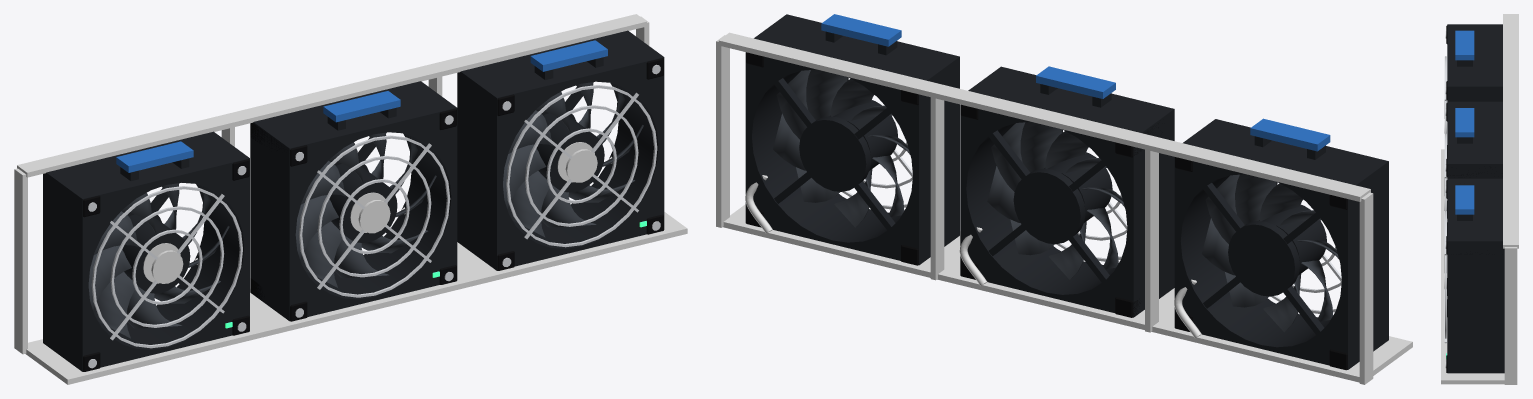
File: hwm_cool_dual_80mm.glb
3 views of the same model, side by side, from view 1: azimuth 30°, elevation 25°; view 2: azimuth 150°, elevation 25°; view 3: azimuth 270°, elevation 25° (orthographic). The views are drawn at different scales.
Visible parts, largest first — view 1: Body, Rotor_Z_2, Rotor_Z_0, Rotor_Z_1; view 2: Body, Rotor_Z_1, Rotor_Z_2, Rotor_Z_0; view 3: Body.
Part boxes in pixels (<box>): Body: <box>14,14,687,384</box>; Rotor_Z_2: <box>503,82,643,237</box>; Rotor_Z_0: <box>88,183,229,338</box>; Rotor_Z_1: <box>295,132,436,287</box>; Body: <box>716,14,1412,384</box>; Rotor_Z_1: <box>987,122,1124,279</box>; Rotor_Z_2: <box>773,69,910,227</box>; Rotor_Z_0: <box>1202,174,1338,332</box>; Body: <box>1441,14,1518,384</box>.
Size of the model in its own units: 0.3478 by 0.1033 by 0.049.
